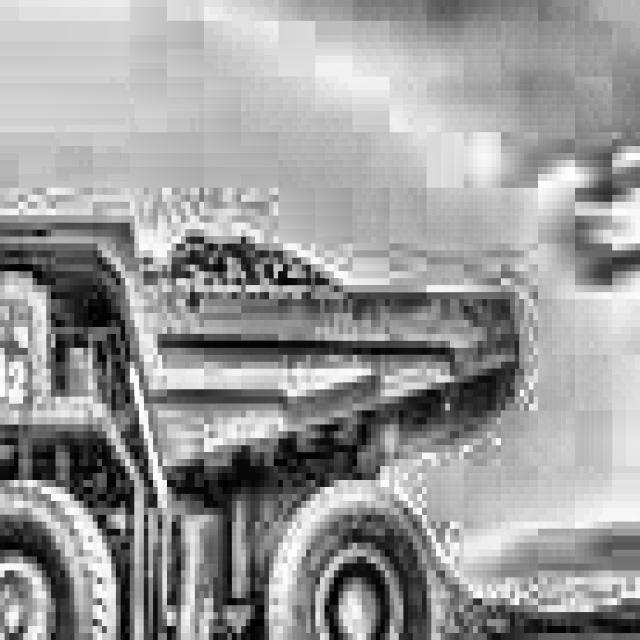dump_truck: (0, 174, 529, 640)
